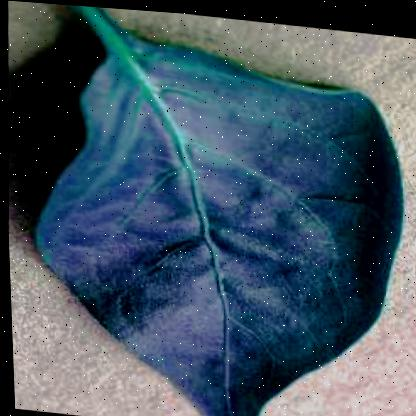Healthy: (18, 1, 415, 415)
